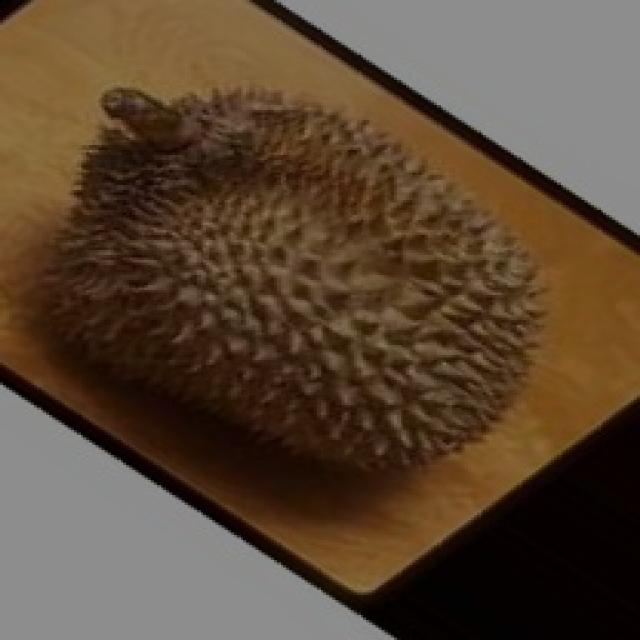fruit: (3, 30, 366, 508), (274, 175, 631, 563)
